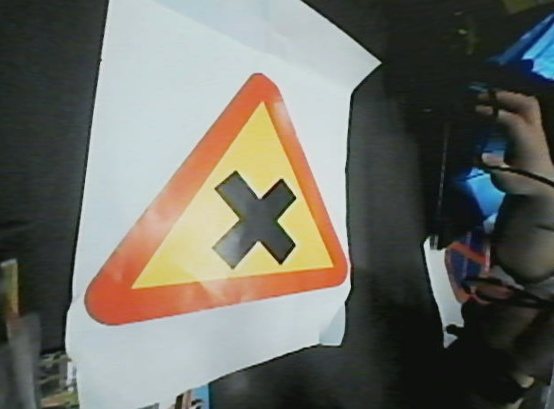junction: (83, 54, 359, 324)
